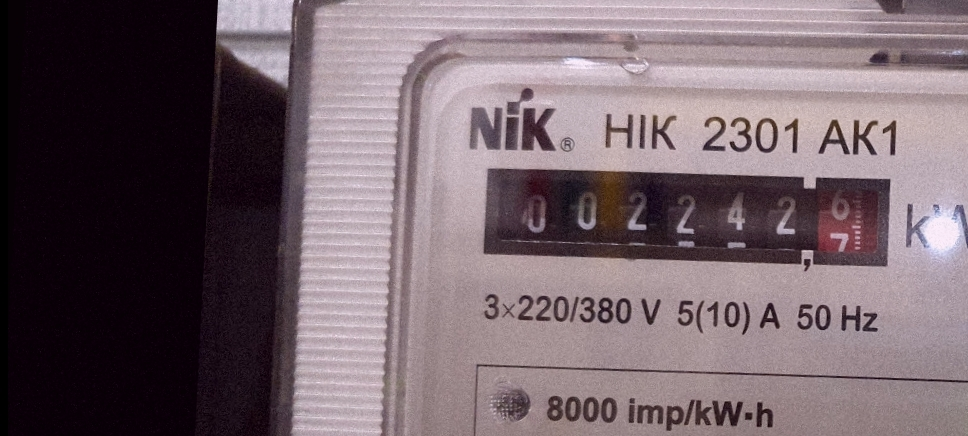0: (574, 187, 601, 231), (525, 189, 550, 235), (626, 188, 652, 232)
2: (773, 192, 800, 237), (674, 191, 700, 236)
4: (724, 188, 750, 232)
6: (829, 187, 854, 221)
7: (827, 229, 852, 253)
screen: (473, 145, 910, 290)
